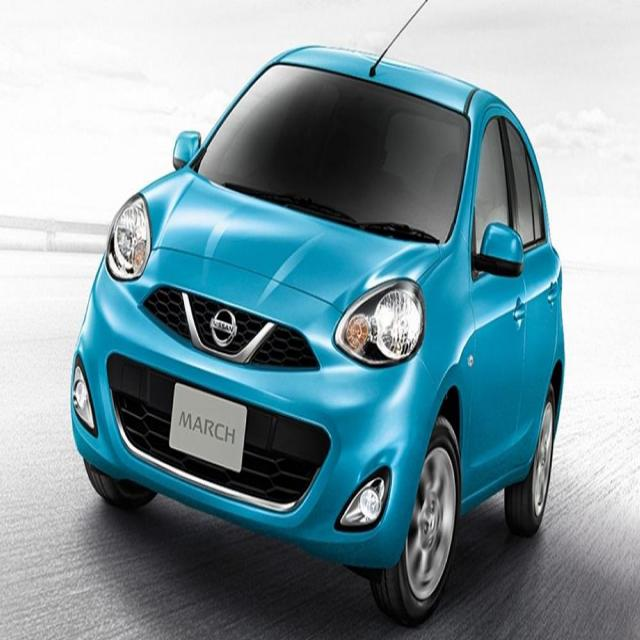back_left_door: (501, 106, 556, 473)
front_bumper: (71, 247, 442, 569)
front_glass: (190, 64, 469, 245)
front_left_door: (462, 107, 527, 499)
front_left_light: (334, 279, 425, 370)
front_right_light: (105, 189, 153, 284)
hood: (139, 166, 442, 315)
left_mirror: (472, 222, 524, 279)
right_mirror: (172, 131, 202, 169)
wheel: (369, 386, 556, 627)
